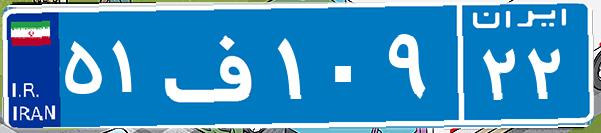0: (330, 28, 385, 110)
1: (273, 28, 330, 110), (110, 28, 158, 105)
2: (475, 38, 525, 113), (525, 38, 570, 115)
5: (57, 26, 110, 107)
9: (385, 28, 445, 110)
ف: (158, 15, 273, 115)
